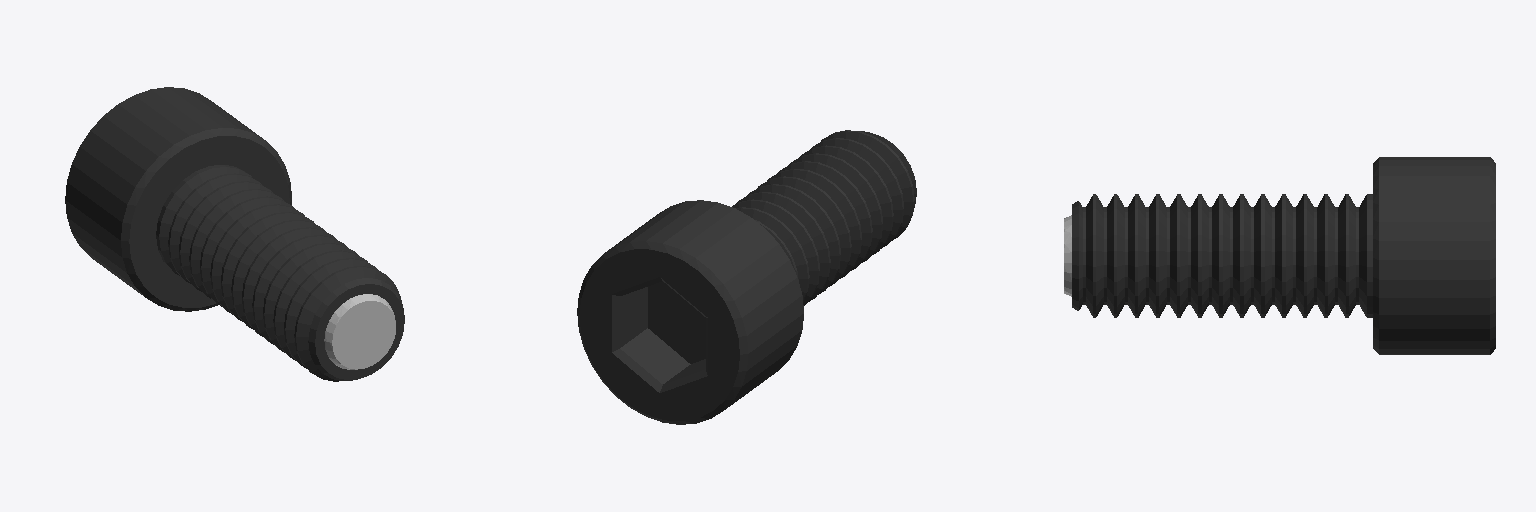
File: bcf-10x25.obj
3 renders of one model, left to right at view 1: azimuth 30°, elevation 25°; view 2: azimuth 150°, elevation 25°; view 3: azimuth 270°, elevation 25°, orthographic.
Parts seen in each view (by area): view 1: bcf-10x25_1; view 2: bcf-10x25_1; view 3: bcf-10x25_1.
Part boxes in pixels (x1,y1,x2,y2): bcf-10x25_1: (65, 87, 404, 381); bcf-10x25_1: (577, 130, 916, 424); bcf-10x25_1: (1064, 157, 1495, 354).
Bounding box in the file's own units: 16 × 16 × 35.